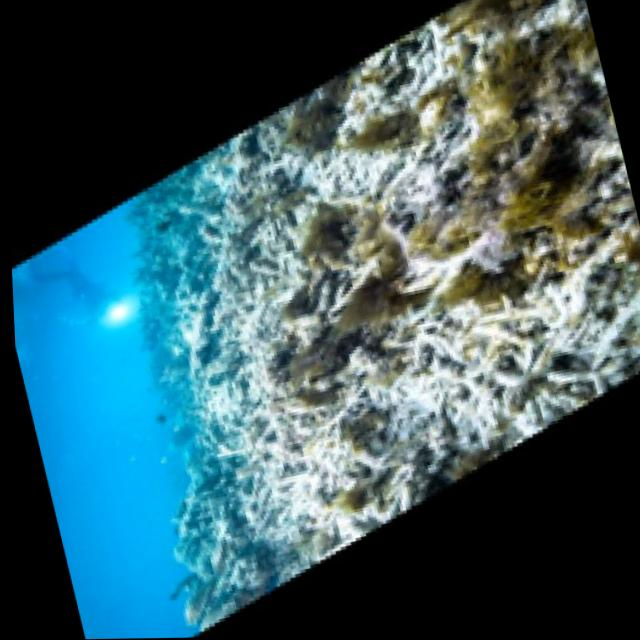Dead Coral: (317, 182, 640, 445), (286, 59, 531, 300), (156, 319, 375, 533), (485, 0, 633, 224)
